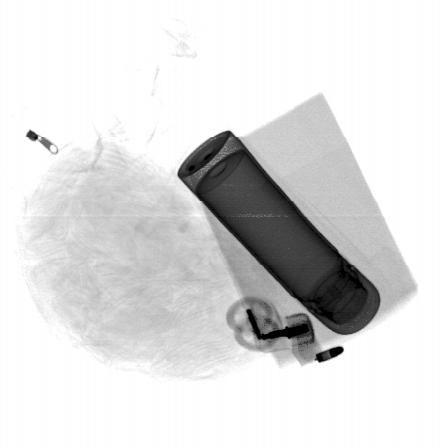Bullet: (314, 344, 347, 363)
